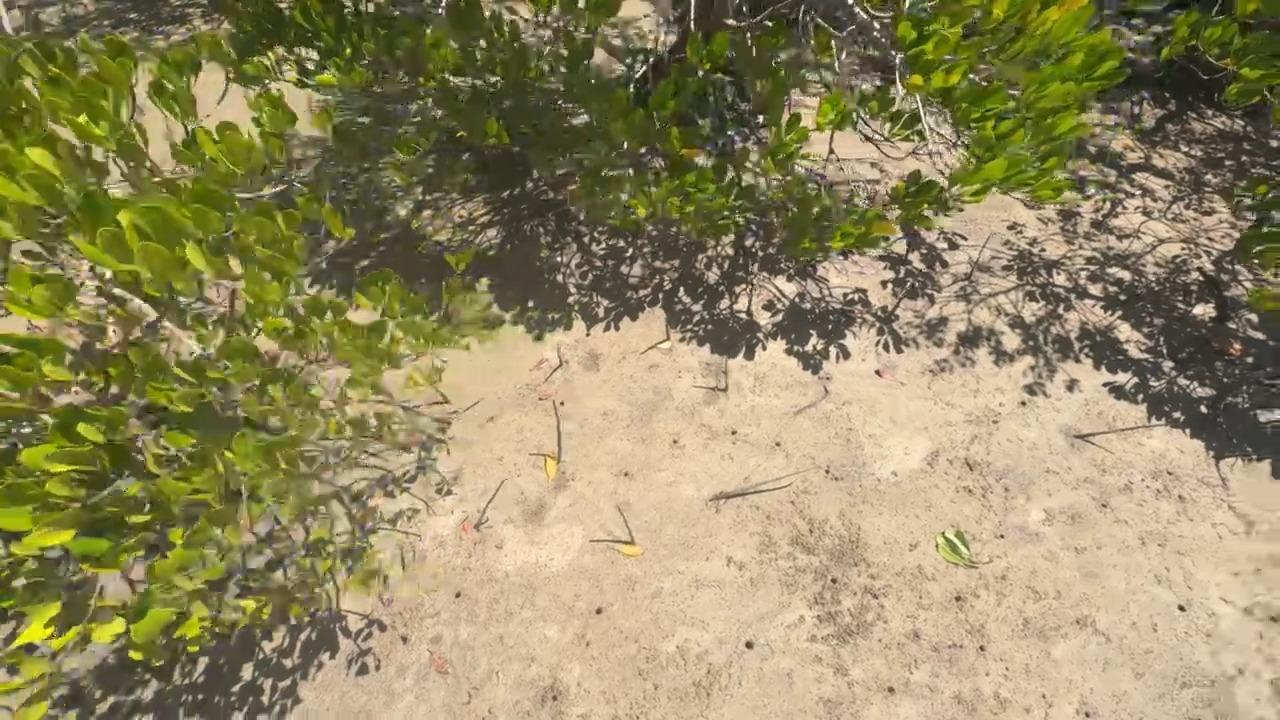Tree: (474, 478, 507, 528), (710, 483, 794, 501), (1073, 423, 1172, 438), (966, 233, 993, 278), (618, 503, 635, 545), (552, 399, 562, 463), (432, 388, 451, 406), (724, 359, 731, 392), (664, 314, 671, 341), (555, 342, 563, 365)
